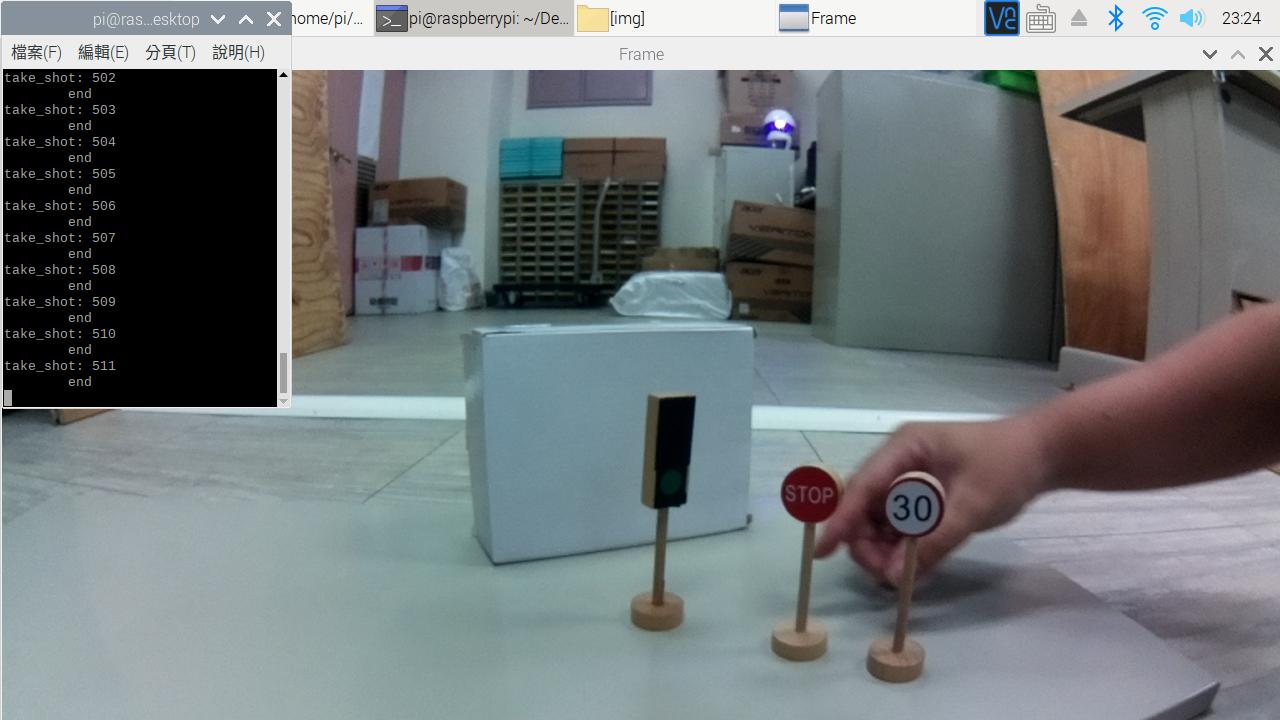Green: (631, 387, 708, 513)
Speed30: (885, 472, 950, 536)
Stop: (779, 457, 852, 526)
